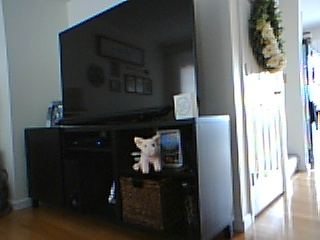piggy: (131, 133, 164, 175)
